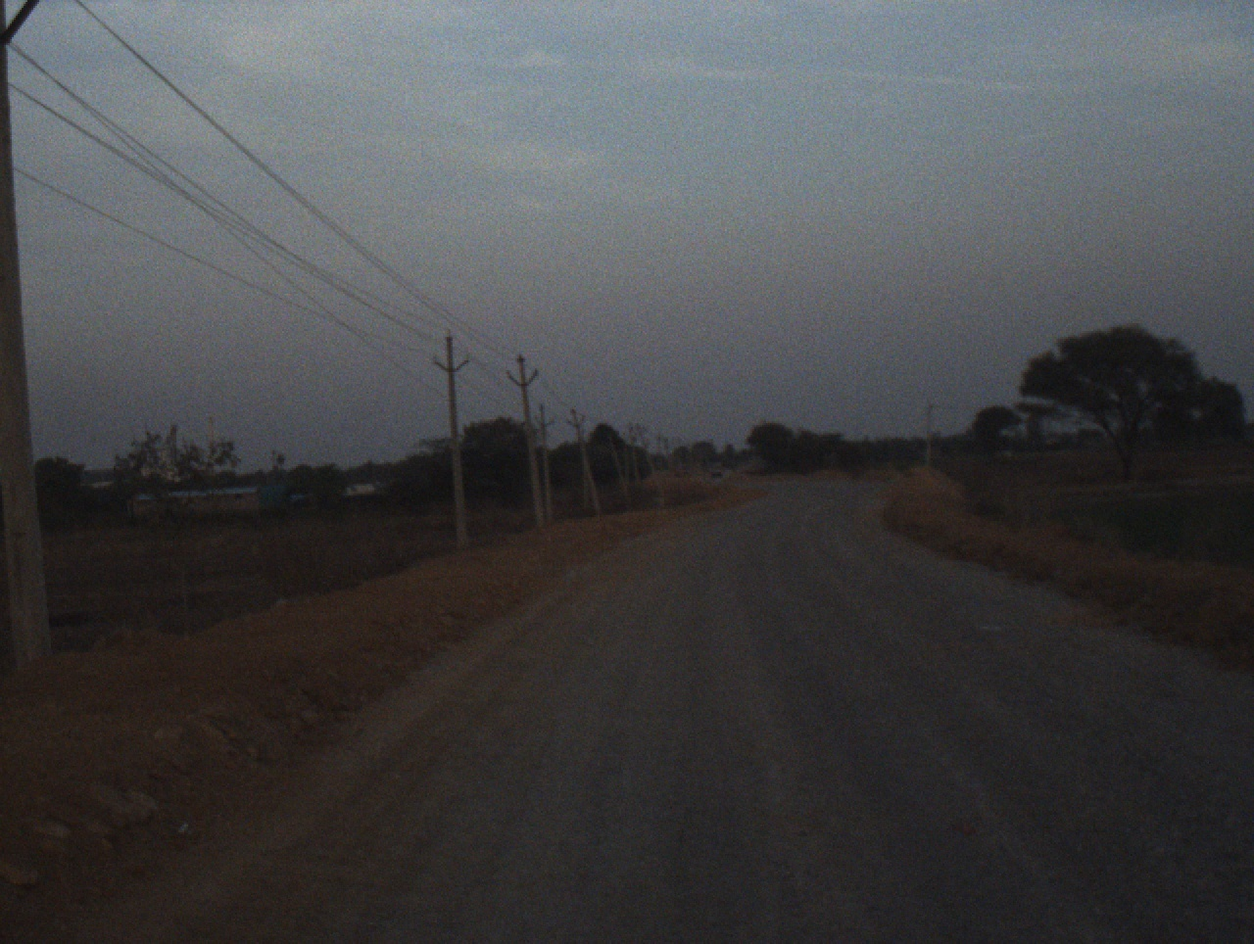car: (708, 459, 724, 474)
